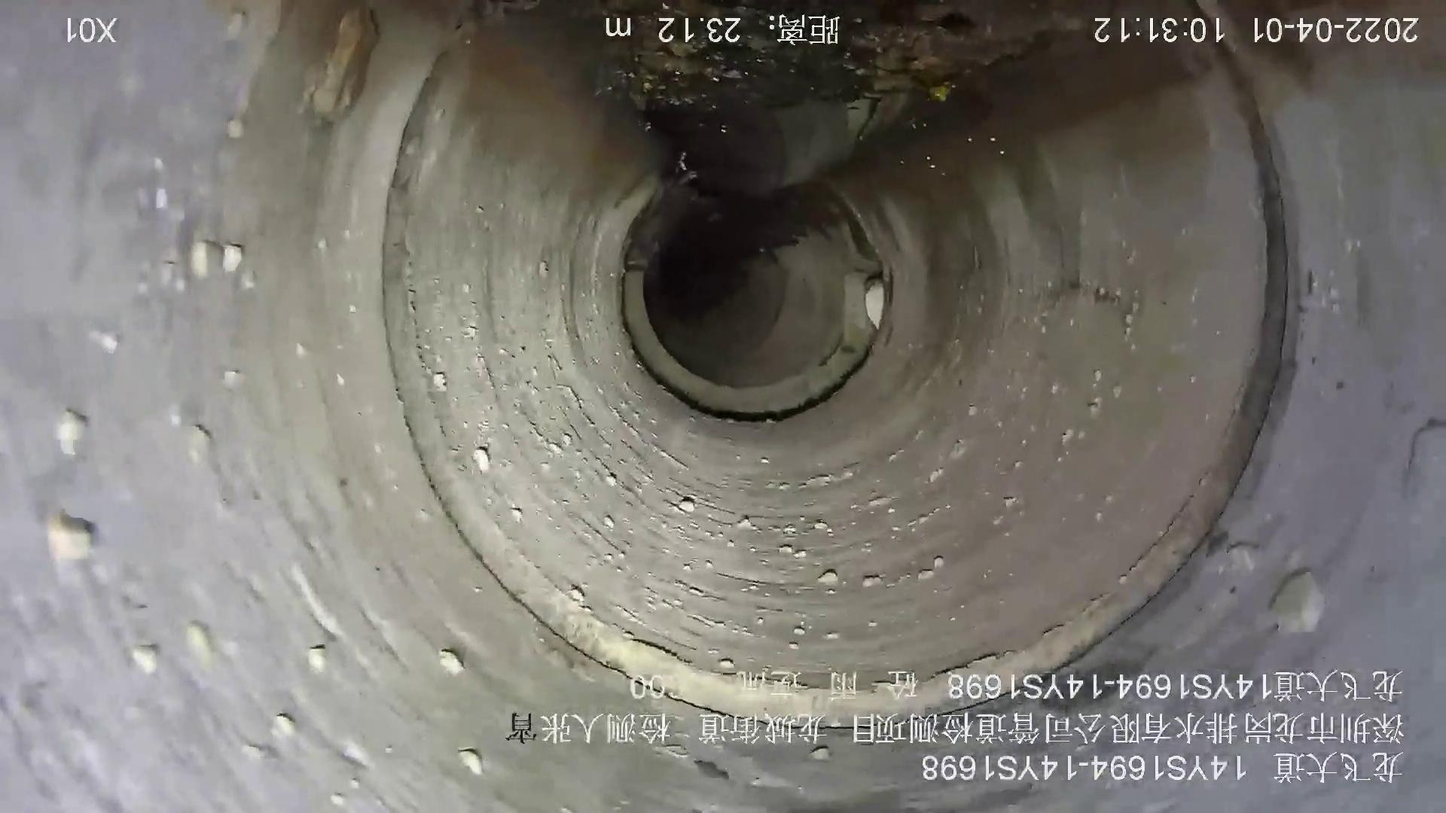CJ: (602, 1, 1082, 117), (409, 1, 501, 115)
CKTJ: (382, 97, 1287, 728)
ZGAJ: (621, 267, 877, 417), (865, 276, 888, 329)
